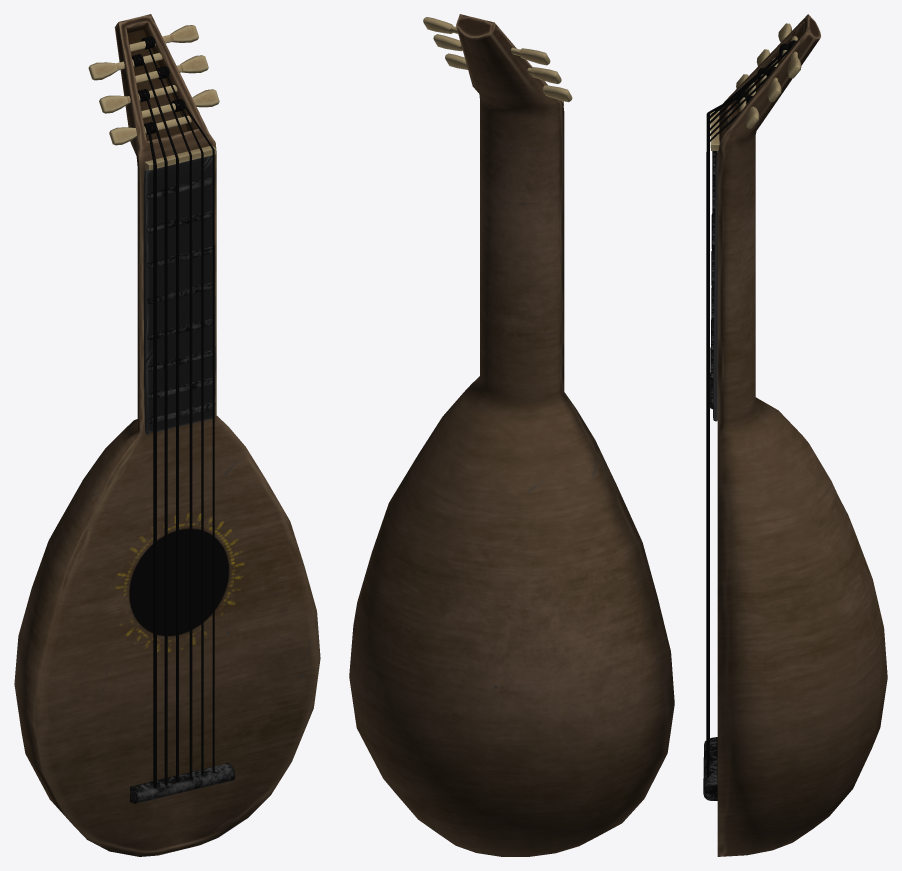
Rendered from lute.glb.
3 renders of one model, left to right at view 1: azimuth 30°, elevation 25°; view 2: azimuth 150°, elevation 25°; view 3: azimuth 270°, elevation 25°, orthographic. The views are drawn at different scales.
Parts seen in each view (by area): view 1: Body, Strings, naklad, kolki, lad, strhold, porog; view 2: Body, kolki; view 3: Body, Strings, kolki, naklad, lad, strhold.
Part boxes in pixels (<box>): Body: <box>14,14,320,856</box>; Strings: <box>143,47,214,788</box>; naklad: <box>143,155,215,434</box>; kolki: <box>88,25,219,145</box>; lad: <box>146,177,215,423</box>; strhold: <box>130,763,235,803</box>; porog: <box>144,146,216,170</box>; Body: <box>349,14,674,856</box>; kolki: <box>423,17,572,102</box>; Body: <box>717,14,887,856</box>; Strings: <box>706,49,788,777</box>; kolki: <box>736,23,801,128</box>; naklad: <box>713,151,717,421</box>; lad: <box>710,151,715,408</box>; strhold: <box>703,737,717,800</box>.
Size of the model in its own units: 12.76 by 34.5 by 7.06.
1 material, 1 textured.
